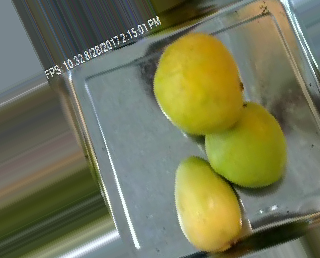Mango: (153, 35, 244, 136), (205, 103, 288, 188), (175, 155, 241, 252)
